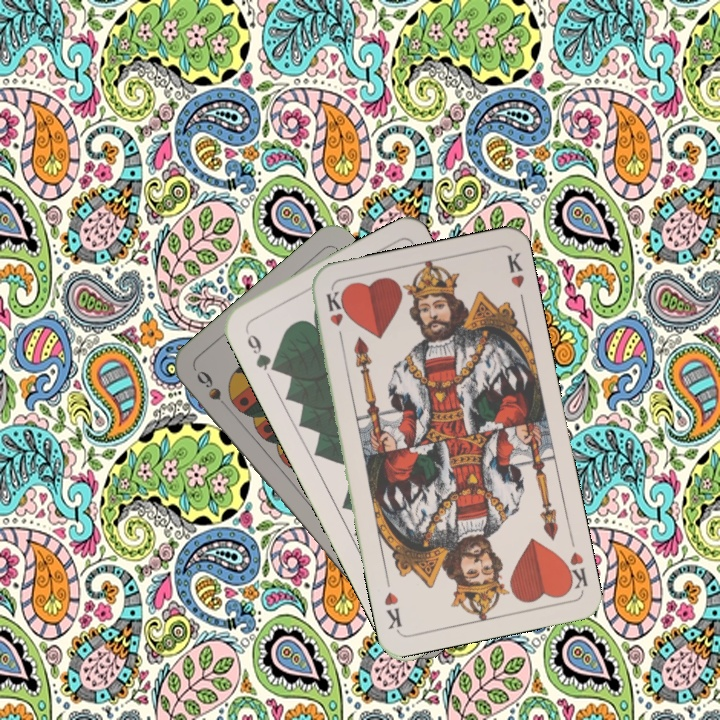G9: (240, 324, 281, 375)
HK: (322, 287, 347, 346), (558, 548, 590, 594)
S9: (192, 366, 234, 415)
